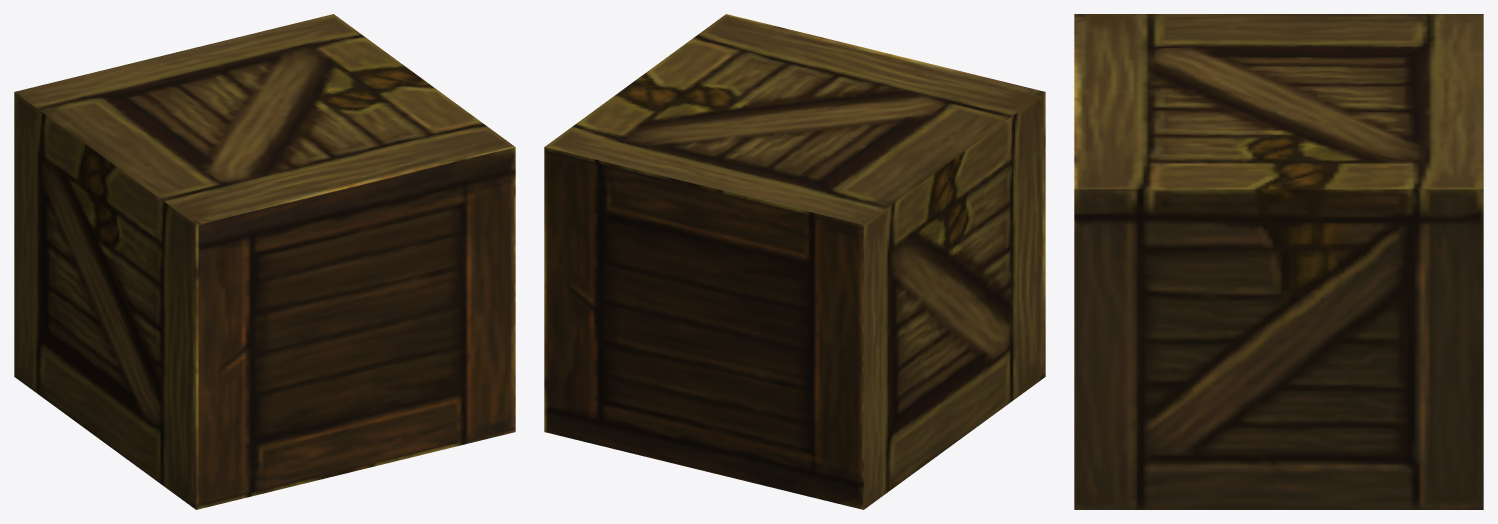
File: H_Maze_xiangzi01.FBX
3 renders of one model, left to right at view 1: azimuth 30°, elevation 25°; view 2: azimuth 150°, elevation 25°; view 3: azimuth 270°, elevation 25°, orthographic. The views are drawn at different scales.
Visible parts, largest first — view 1: xiangzi; view 2: xiangzi; view 3: xiangzi.
Part boxes in pixels (x1,y1,x2,y2): xiangzi: [14, 14, 515, 509]; xiangzi: [544, 14, 1045, 509]; xiangzi: [1074, 14, 1483, 509].
Bounding box in the file's own units: 66.92 × 57.04 × 66.01.
